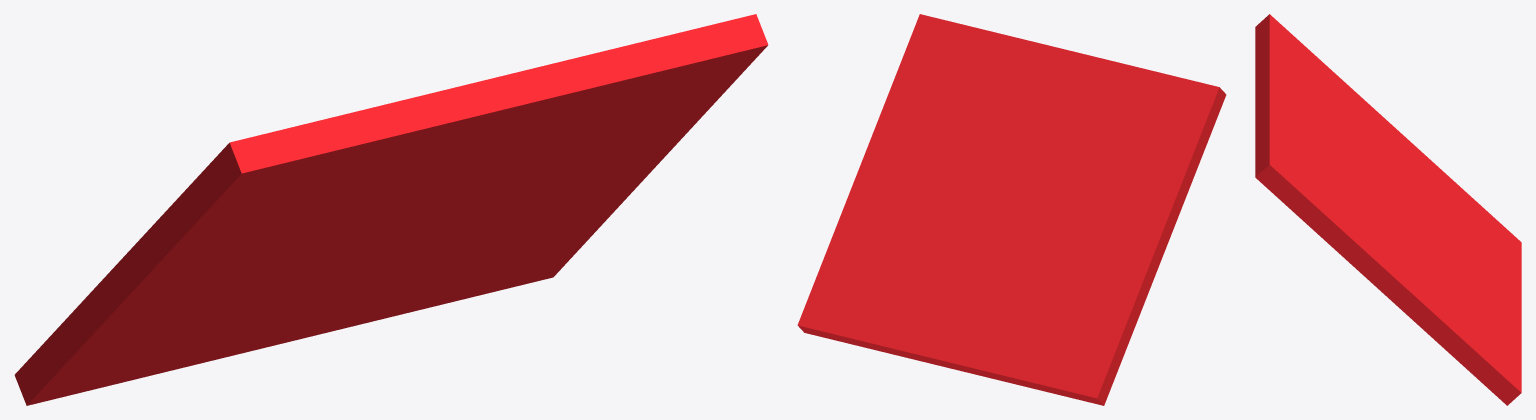
Rendered from ColorSensor_R.fbx.
The picture shows the model from 3 angles, left to right: view 1: azimuth 30°, elevation 25°; view 2: azimuth 150°, elevation 25°; view 3: azimuth 270°, elevation 25°; orthographic projection. The views are drawn at different scales.
Parts seen in each view (by area): view 1: ColorSensor_R; view 2: ColorSensor_R; view 3: ColorSensor_R.
Boxes of the visible parts, x1,y1,x2,y2 form: ColorSensor_R: [14, 14, 768, 405]; ColorSensor_R: [797, 14, 1226, 405]; ColorSensor_R: [1255, 14, 1521, 405].
Bounding box in the file's own units: 0.7044 × 0.5264 × 0.5264.
